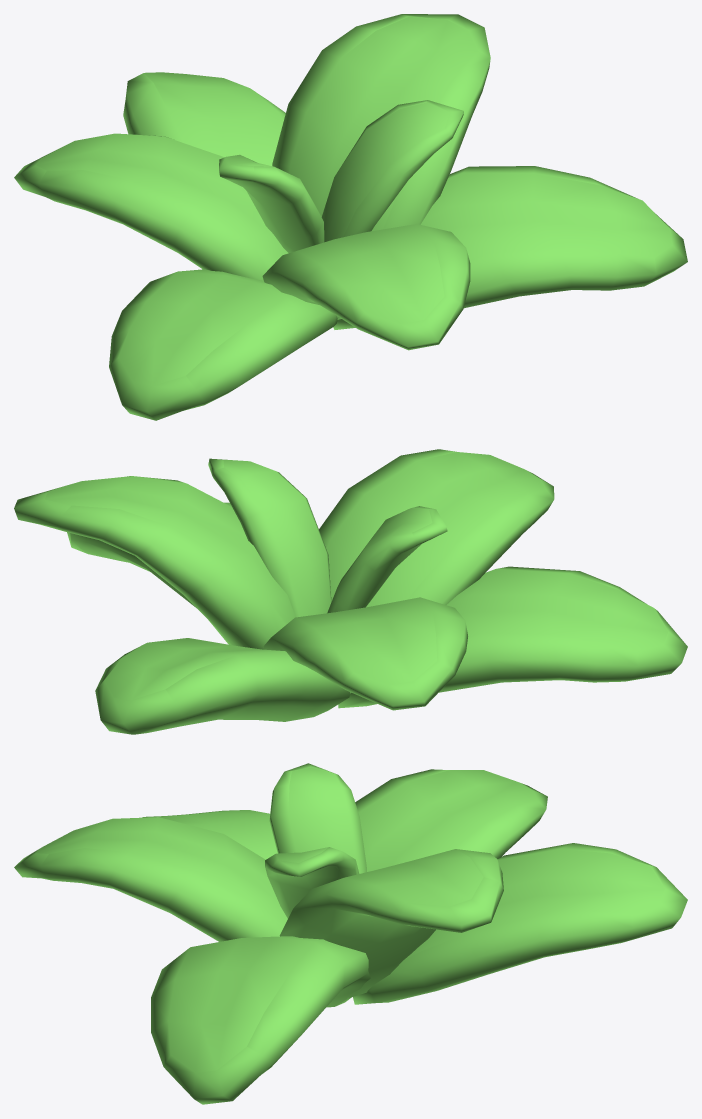
File: bobo_leaf.fbx
3 views of the same model, one above another, from view 1: azimuth 30°, elevation 25°; view 2: azimuth 150°, elevation 25°; view 3: azimuth 270°, elevation 25° (orthographic). The views are drawn at different scales.
Visible parts, largest first — view 1: Buds_A_01_LOD1_Mat_Nature_0.001; view 2: Buds_A_01_LOD1_Mat_Nature_0.001; view 3: Buds_A_01_LOD1_Mat_Nature_0.001.
Part boxes in pixels (x1=…): Buds_A_01_LOD1_Mat_Nature_0.001: x1=14, y1=14, x2=687, y2=420; Buds_A_01_LOD1_Mat_Nature_0.001: x1=14, y1=449, x2=687, y2=734; Buds_A_01_LOD1_Mat_Nature_0.001: x1=14, y1=763, x2=687, y2=1104.
Size of the model in its own units: 68 by 23.49 by 70.22.
